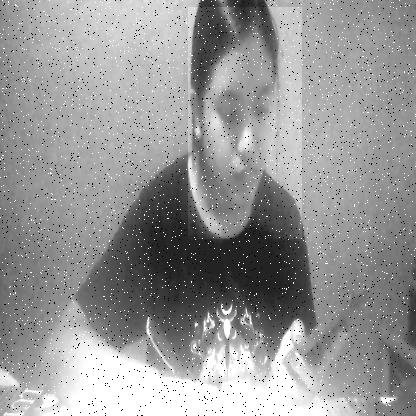Distracted: (188, 7, 302, 239)
